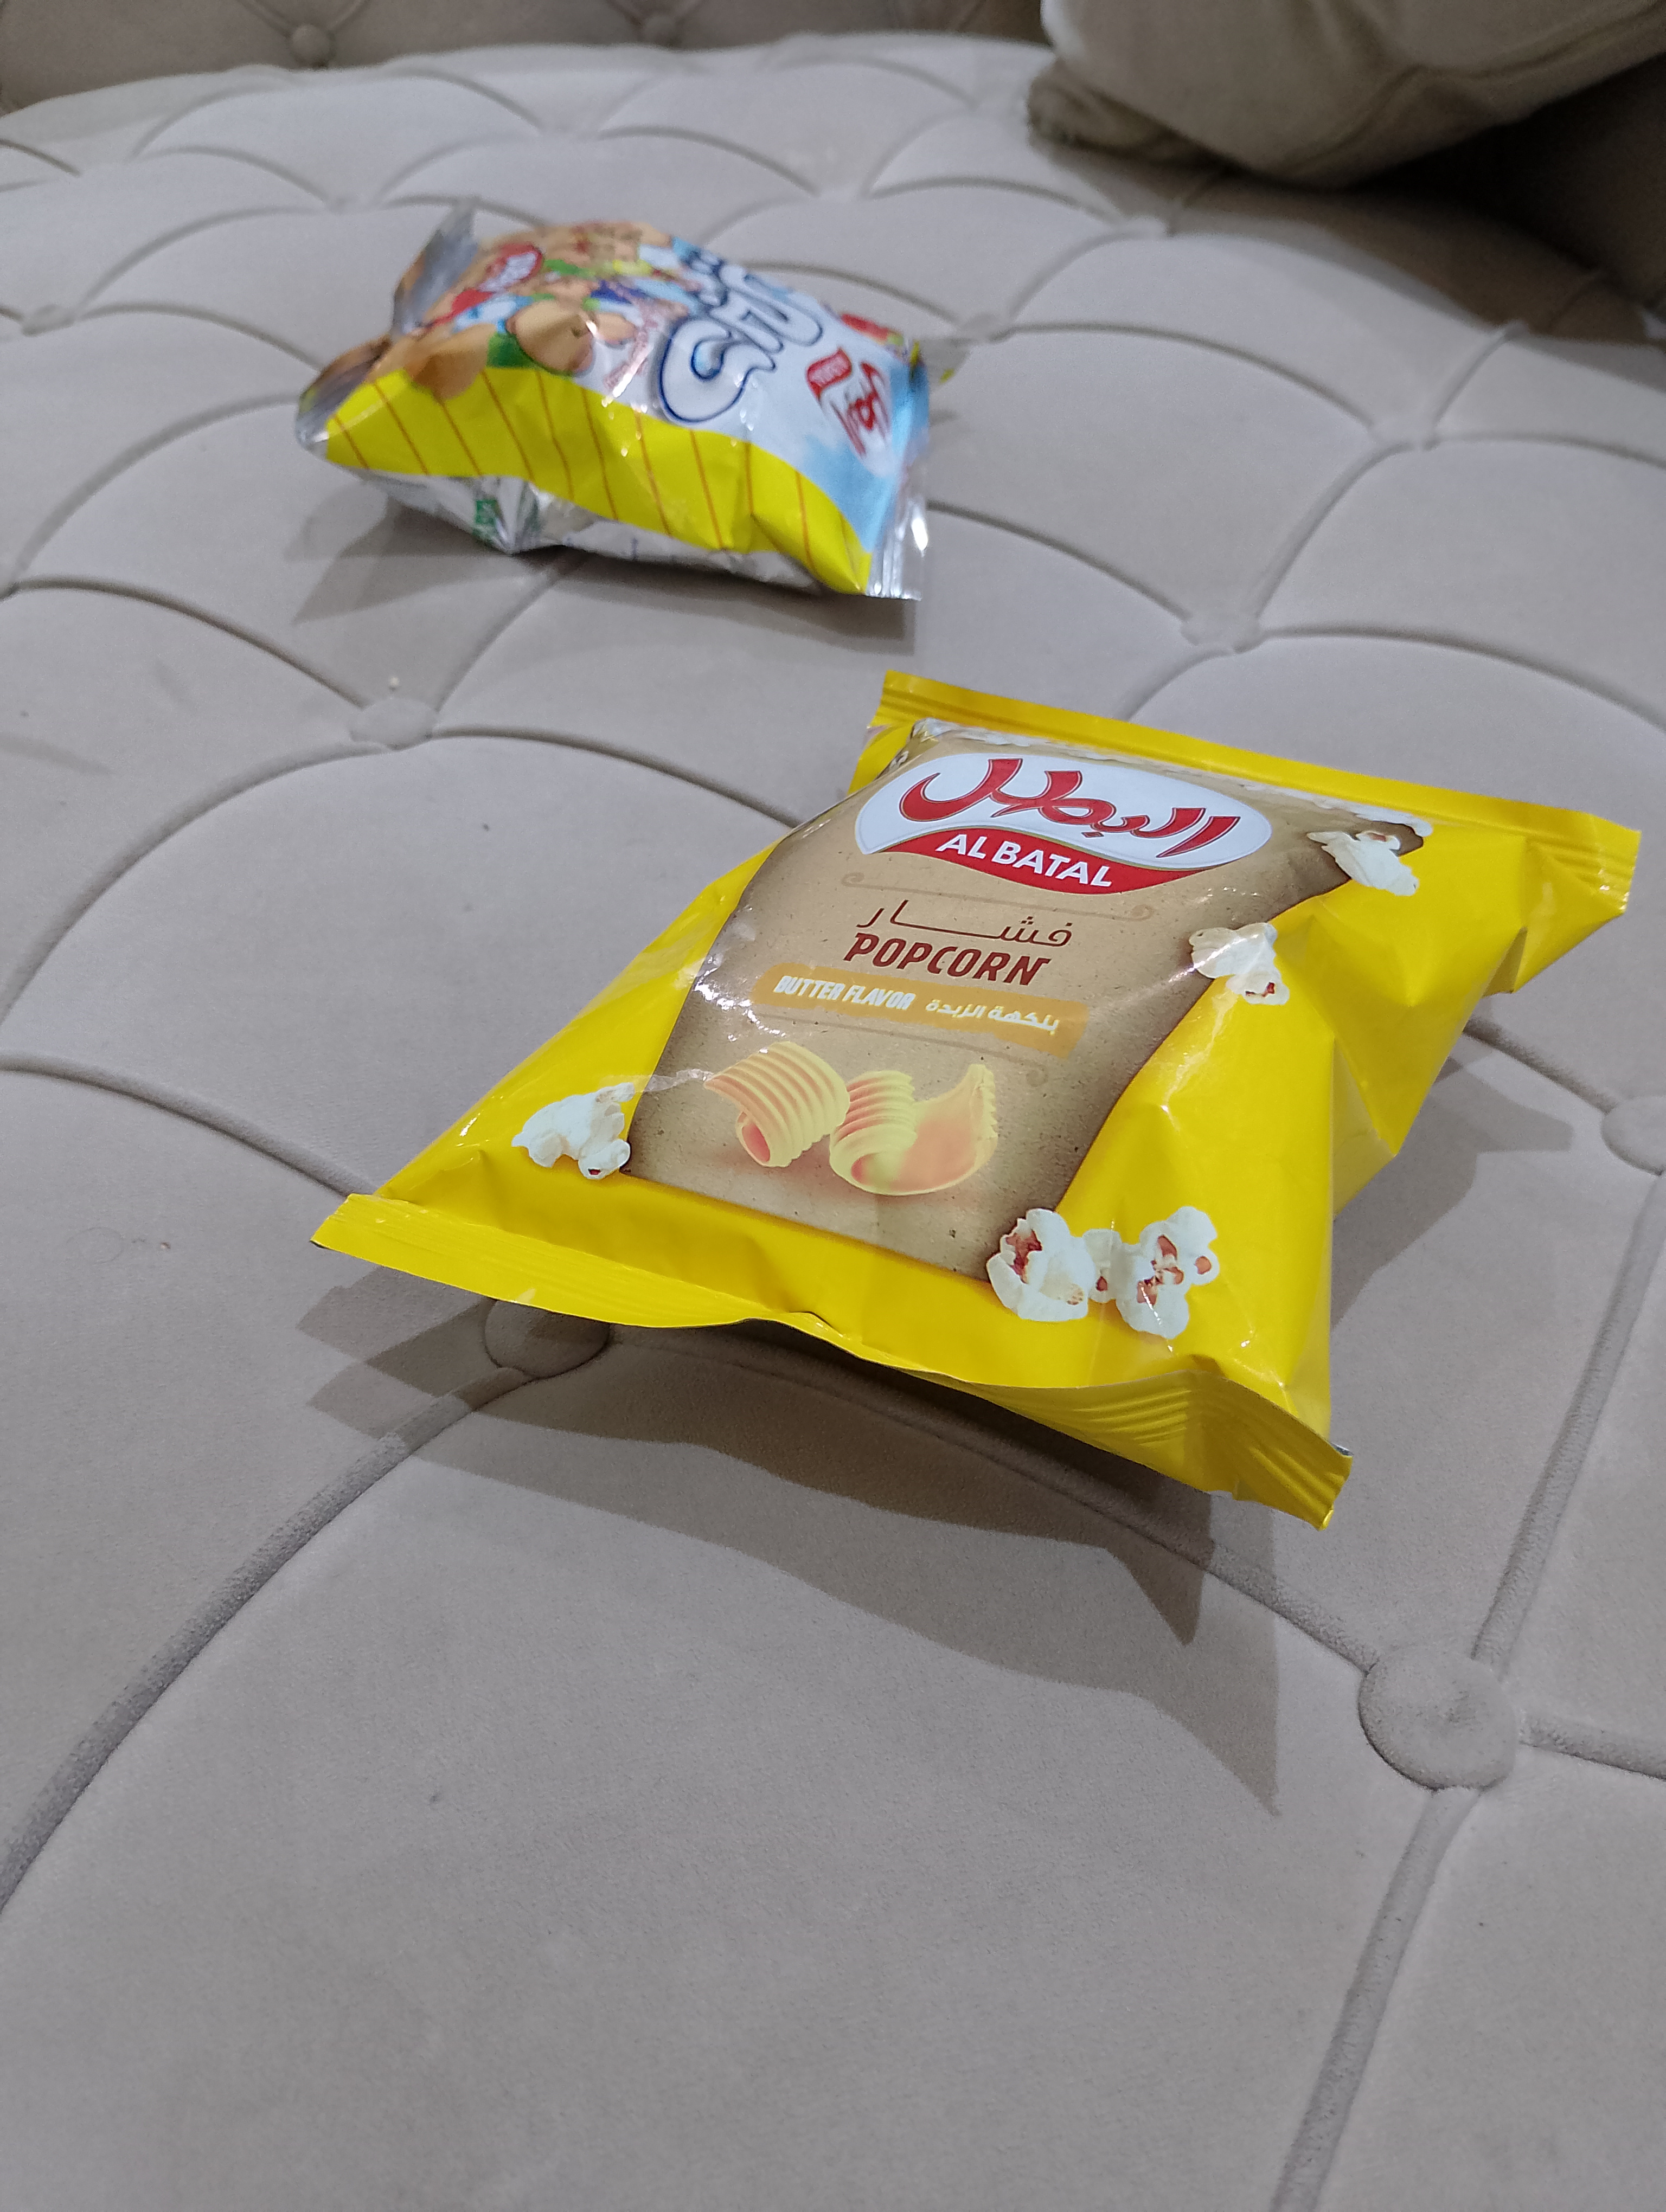albatal_dubbi_corn_snack: (292, 192, 975, 603)
albatal_popcorn_butter_flavor: (306, 666, 1643, 1534)
